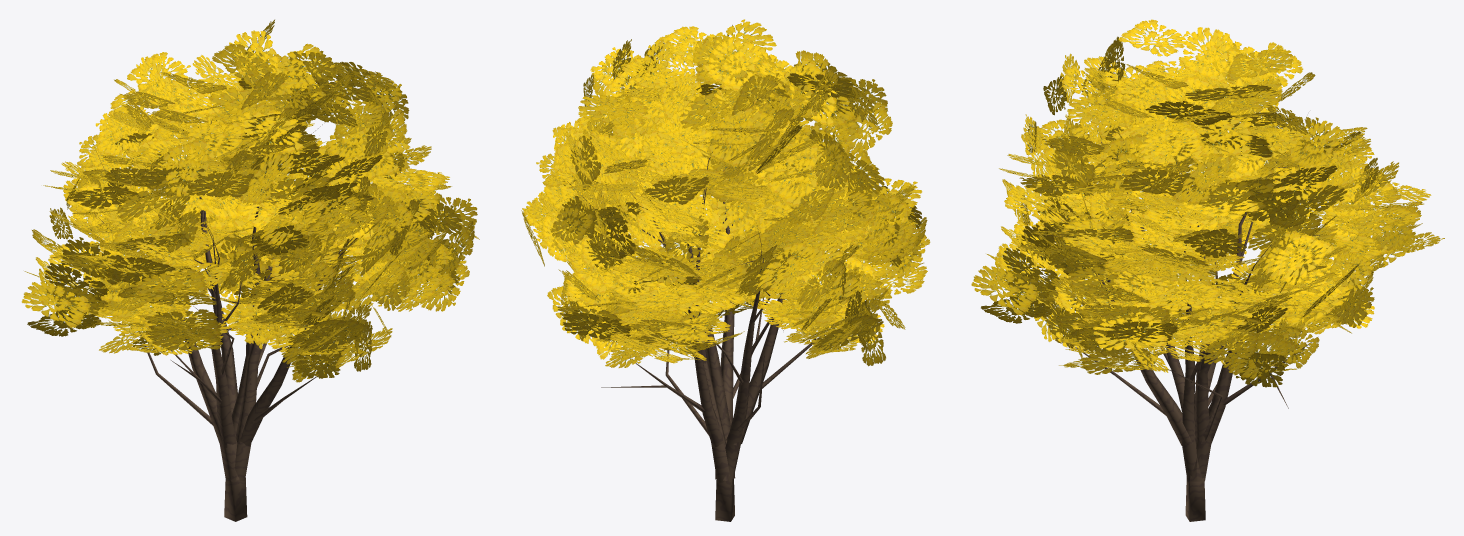
File: model_ipeamarelo_01.fbx
3 renders of one model, left to right at view 1: azimuth 30°, elevation 25°; view 2: azimuth 150°, elevation 25°; view 3: azimuth 270°, elevation 25°, orthographic.
Parts seen in each view (by area): view 1: Ipê; view 2: Ipê; view 3: Ipê.
Boxes of the visible parts, x1,y1,x2,y2 form: Ipê: [21, 19, 479, 521]; Ipê: [521, 19, 930, 521]; Ipê: [971, 19, 1444, 521].
Size of the model in its own units: 10.26 by 10.97 by 10.37.
Materials: 2 (2 with a texture image).
